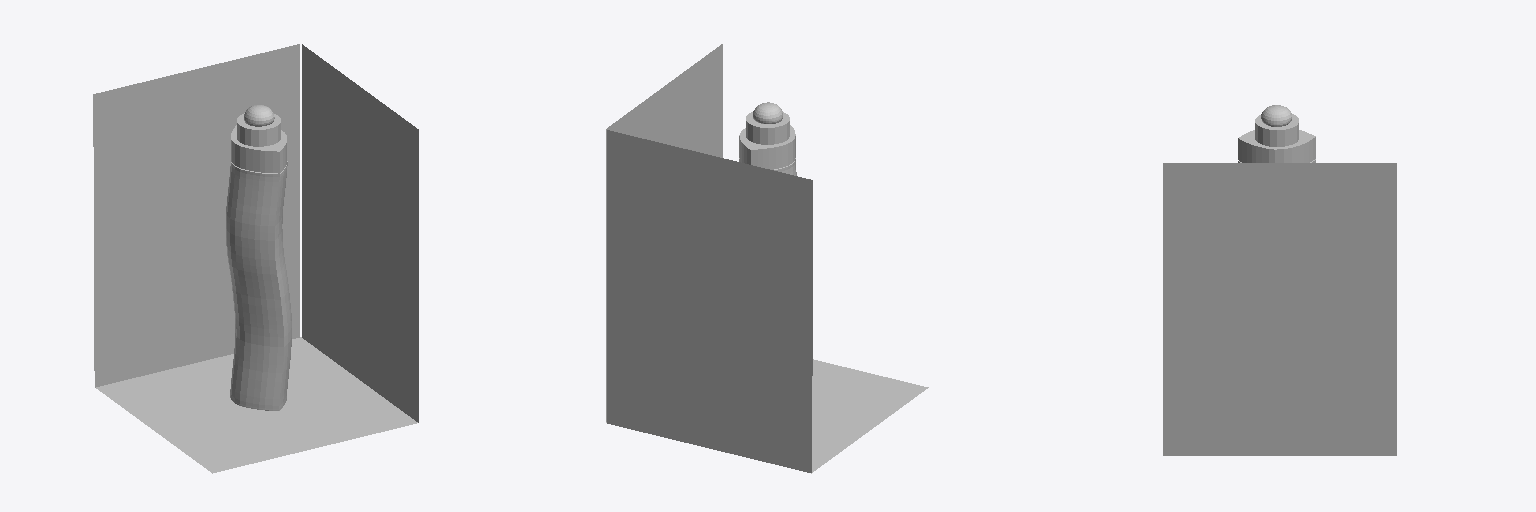
3 views of the same model, side by side, from view 1: azimuth 30°, elevation 25°; view 2: azimuth 150°, elevation 25°; view 3: azimuth 270°, elevation 25° (orthographic).
Visible parts, largest first — view 1: PLANE_FRONT, PLANE_LEFT, PLANE_TOP, Bottiglia, Tappo1, Tappo2, Tappo3; view 2: PLANE_FRONT, PLANE_LEFT, PLANE_TOP, Tappo1, Tappo2, Tappo3; view 3: PLANE_LEFT, Tappo1, Tappo2, Tappo3.
Part boxes in pixels (x1,y1,x2,y2): PLANE_FRONT: (93,44,299,387); PLANE_LEFT: (302,44,418,422); PLANE_TOP: (96,337,417,473); Bottiglia: (226,161,291,410); Tappo1: (231,125,286,173); Tappo2: (237,113,280,146); Tappo3: (244,105,274,126); PLANE_FRONT: (607,130,812,472); PLANE_LEFT: (606,44,722,421); PLANE_TOP: (606,359,928,473); Tappo1: (739,125,795,169); Tappo2: (746,112,789,144); Tappo3: (753,102,782,123); PLANE_LEFT: (1163,163,1396,455); Tappo1: (1238,130,1315,162); Tappo2: (1255,114,1298,146); Tappo3: (1261,105,1291,126).
Size of the model in its own units: 494 by 678 by 482.